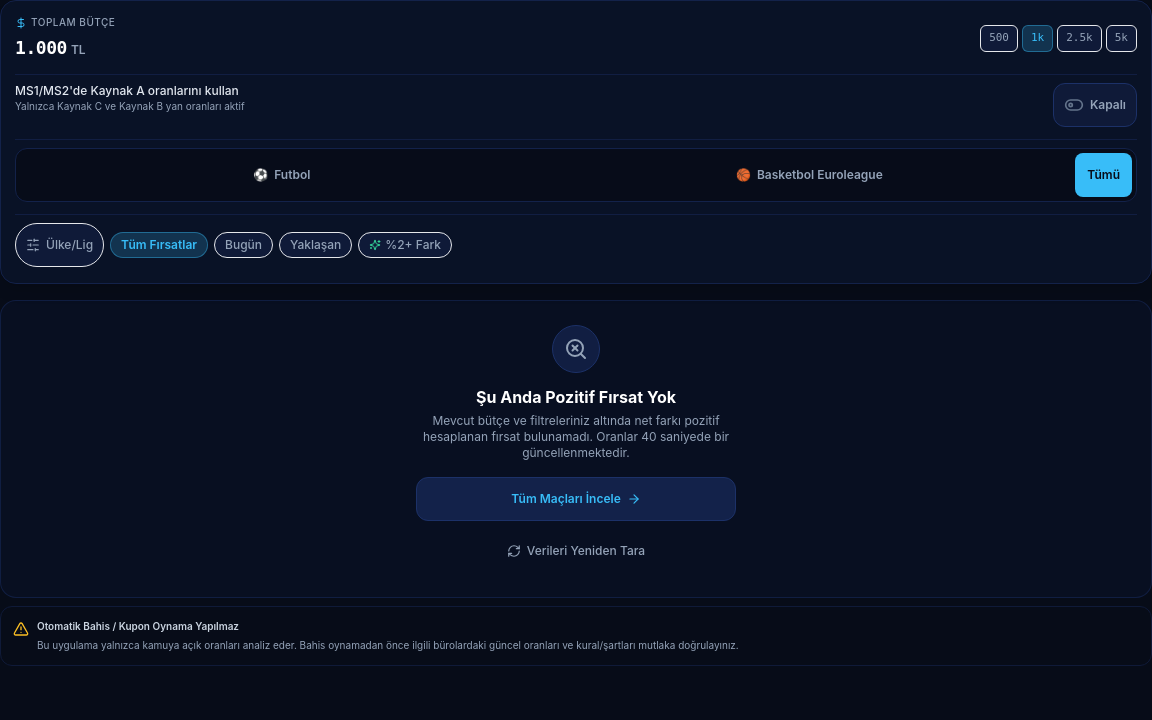
it: OpportunitiesPage taxonomy filters › opens the filter sheet, applies a country+league selection, shows the selected count, and requests filtered opportunities
The width and height of the screenshot is (1152, 720).
Click the button "Ülke/Lig".
click(60, 245)  # box [15,223,104,267]
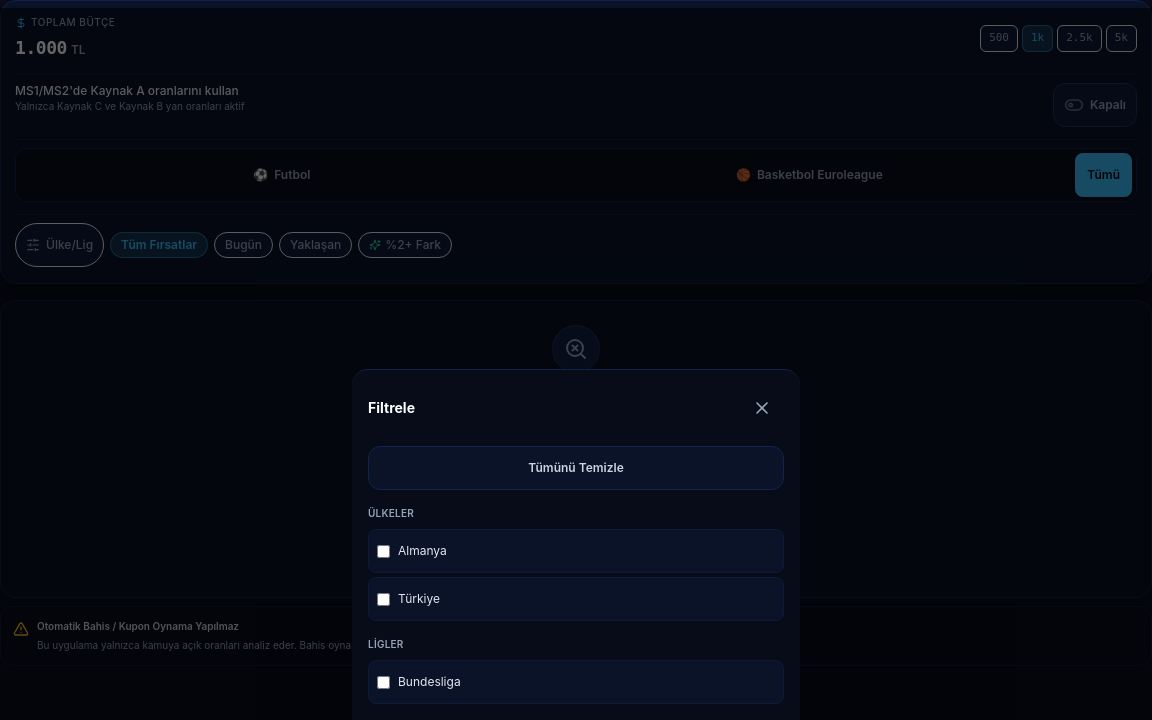
Click the checkbox labelled "Almanya".
click(384, 551)  # box [377,544,390,558]
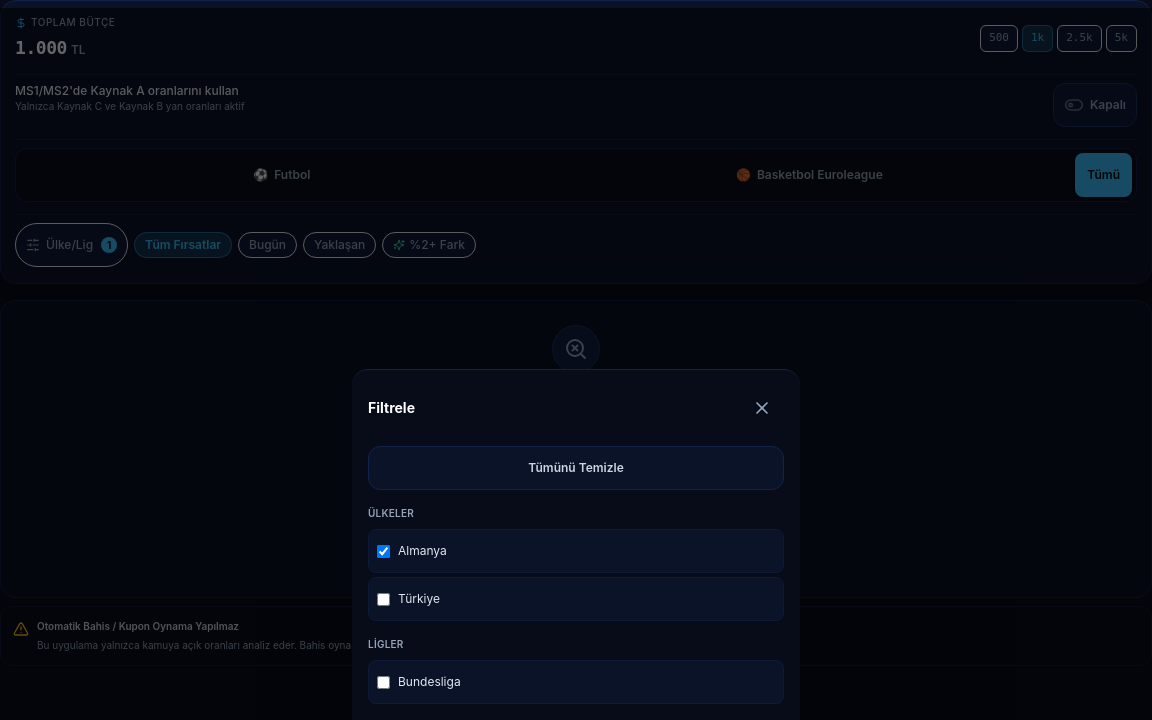
Click the checkbox labelled "Bundesliga".
click(384, 682)  # box [377,676,390,688]
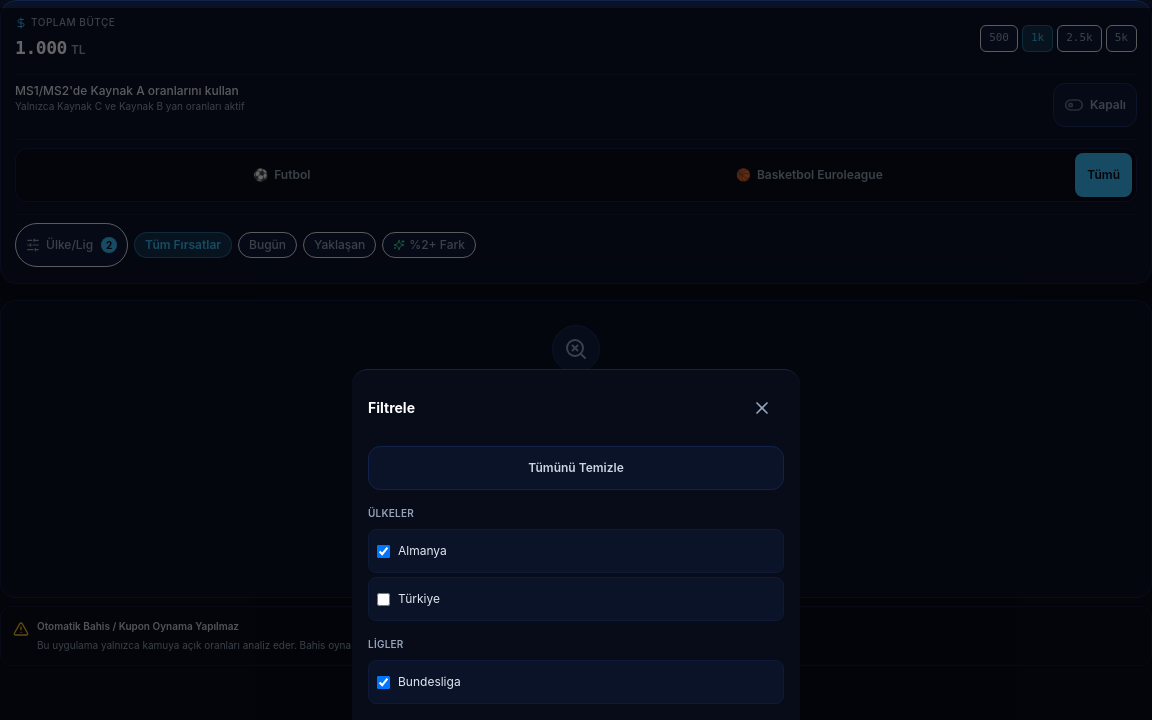
Result: the text "2" is shown at [101,237,117,253]
Click the checkbox labelled "Türkiye".
click(384, 599)  # box [377,592,390,606]
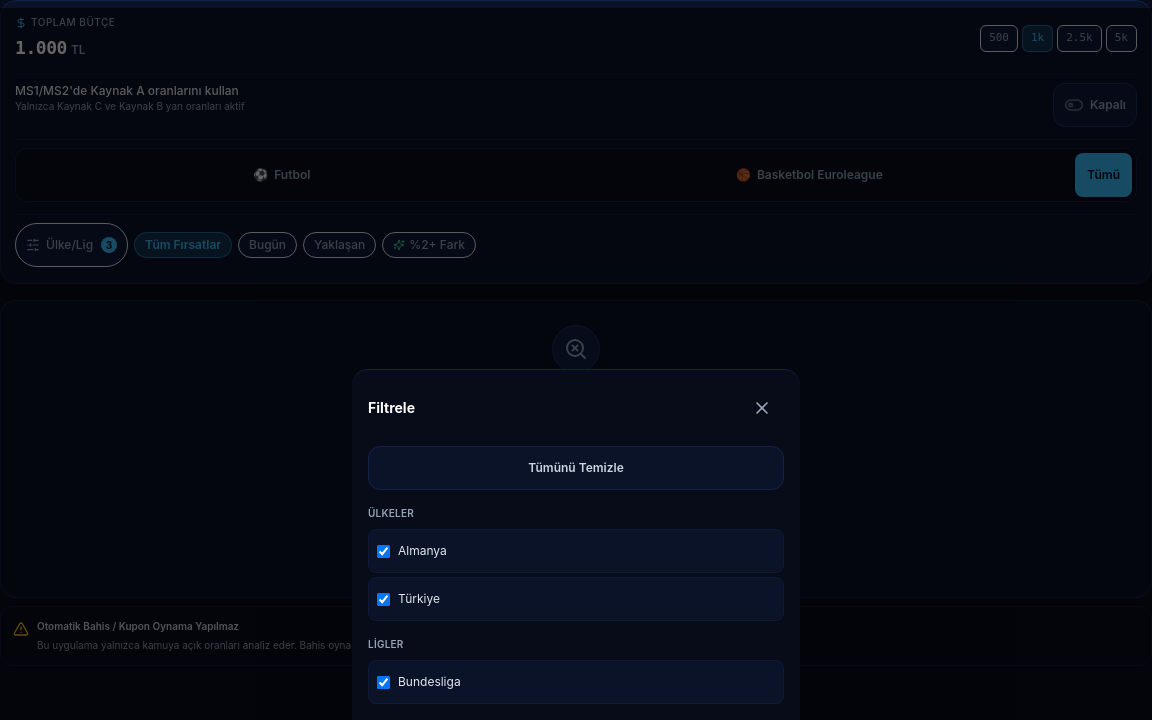
Result: the text "3" is shown at [101,237,117,253]
